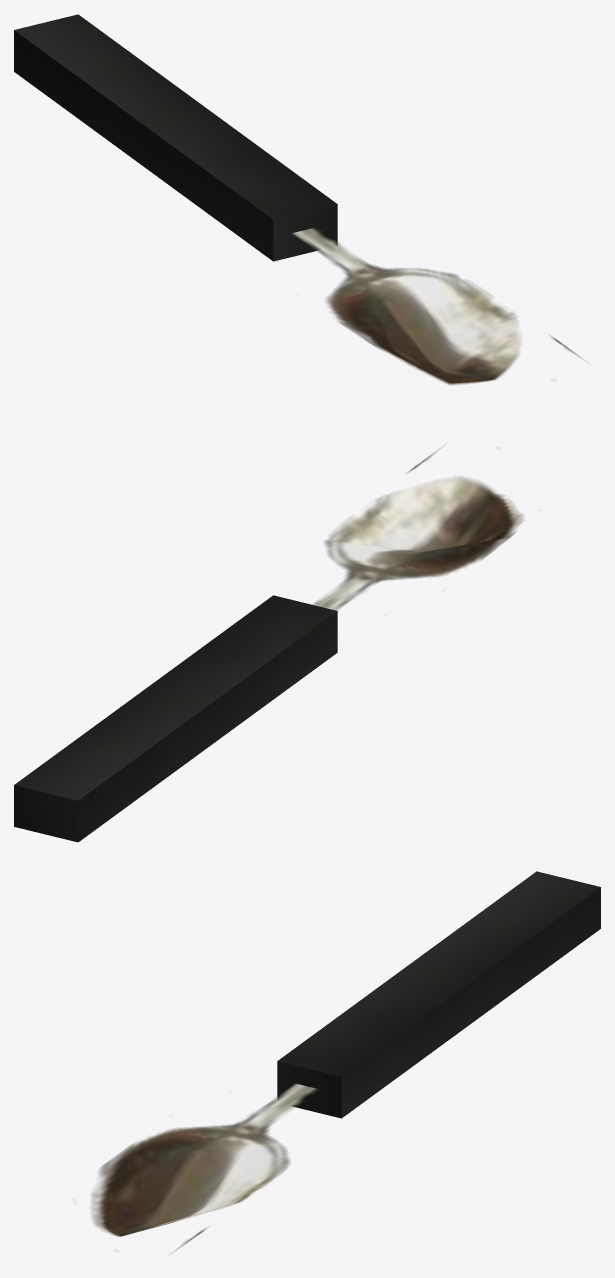
File: Spoon_01.glb
The picture shows the model from 3 angles, top to bottom: view 1: azimuth 30°, elevation 25°; view 2: azimuth 150°, elevation 25°; view 3: azimuth 330°, elevation 25°; orthographic projection.
Visible parts, largest first — view 1: Spoon_01; view 2: Spoon_01; view 3: Spoon_01.
Part boxes in pixels (x1=…): Spoon_01: x1=14, y1=14, x2=583, y2=385; Spoon_01: x1=14, y1=447, x2=523, y2=842; Spoon_01: x1=91, y1=871, x2=600, y2=1251.
Bounding box in the file's own units: 0.0754 × 0.0255 × 0.4249.
Materials: 1 (1 with a texture image).
